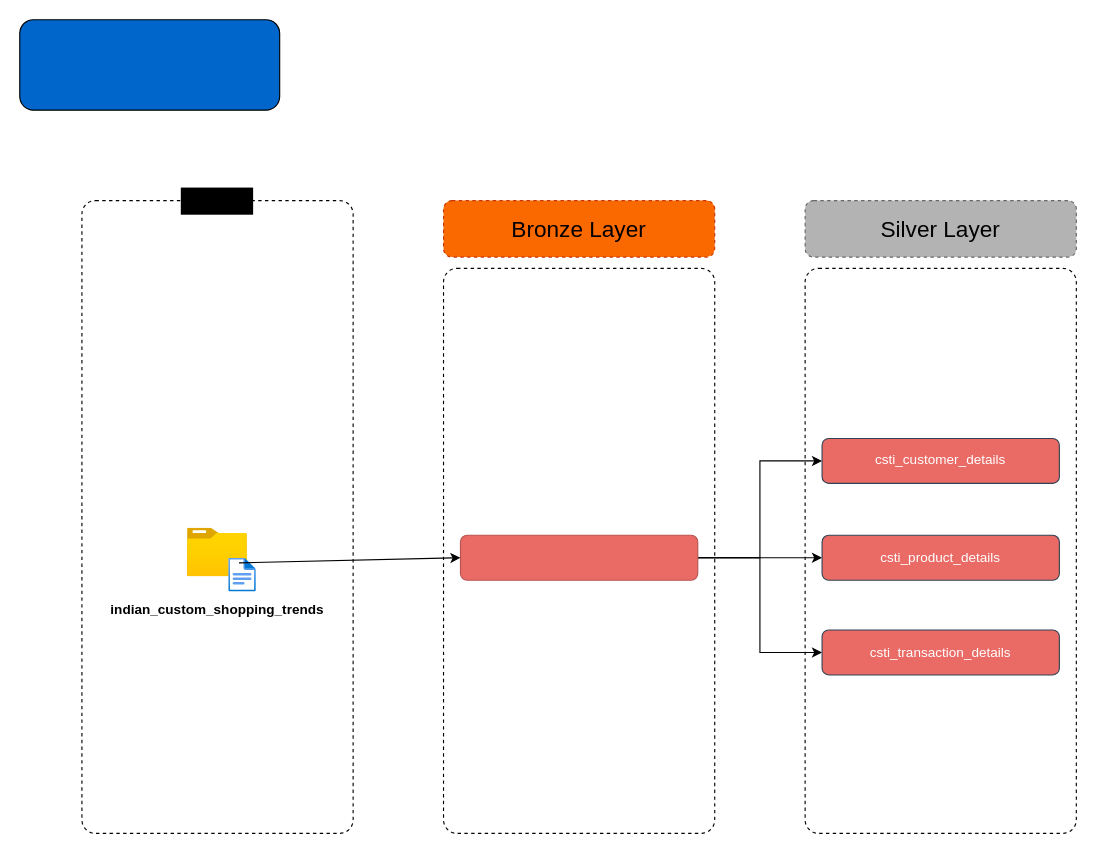
Some shapes in this 1096 by 853 pixel diagram are drawn without their labels. Each missing label, with the box of its shape:
csti_customer_shopping_behavior: (459, 534, 698, 580)
Data Flow: (19, 19, 280, 110)
